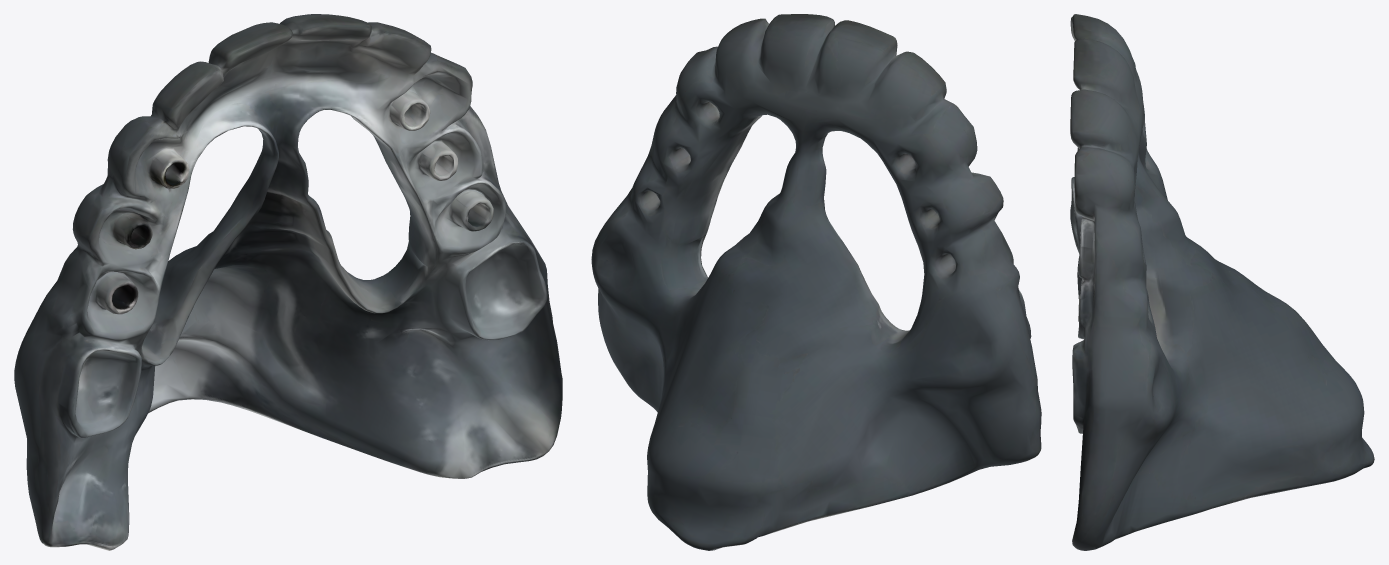
Rendered from maxilla-web.glb.
3 renders of one model, left to right at view 1: azimuth 30°, elevation 25°; view 2: azimuth 150°, elevation 25°; view 3: azimuth 270°, elevation 25°, orthographic. The views are drawn at different scales.
Parts seen in each view (by area): view 1: node_0; view 2: node_0; view 3: node_0.
Boxes of the visible parts, x1,y1,x2,y2 form: node_0: (14,14,562,550); node_0: (591,14,1041,550); node_0: (1070,14,1374,550).
Size of the model in its own units: 0.8707 by 0.8173 by 0.522.
Materials: 1 (1 with a texture image).
